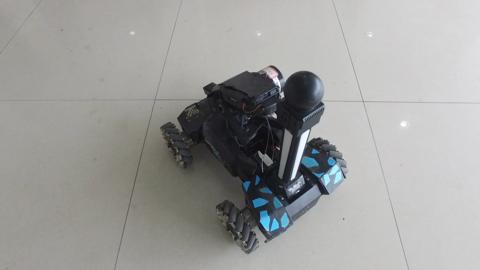chariot: (162, 50, 334, 237)
